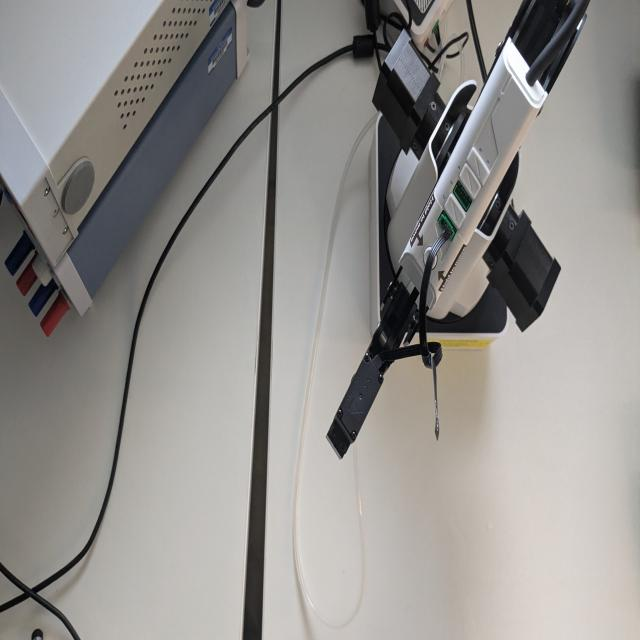Robot-end-effector-HF8z: (325, 347, 390, 463)
